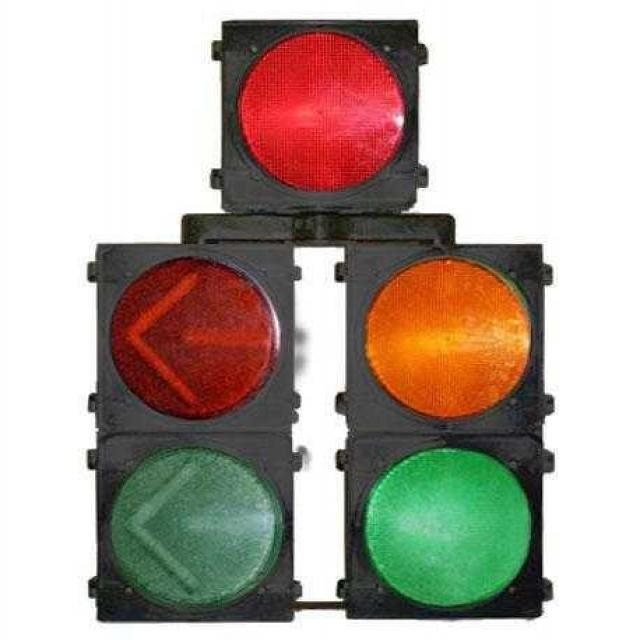red_light: (218, 19, 418, 213), (95, 244, 292, 436), (97, 437, 291, 623), (348, 438, 542, 619)
